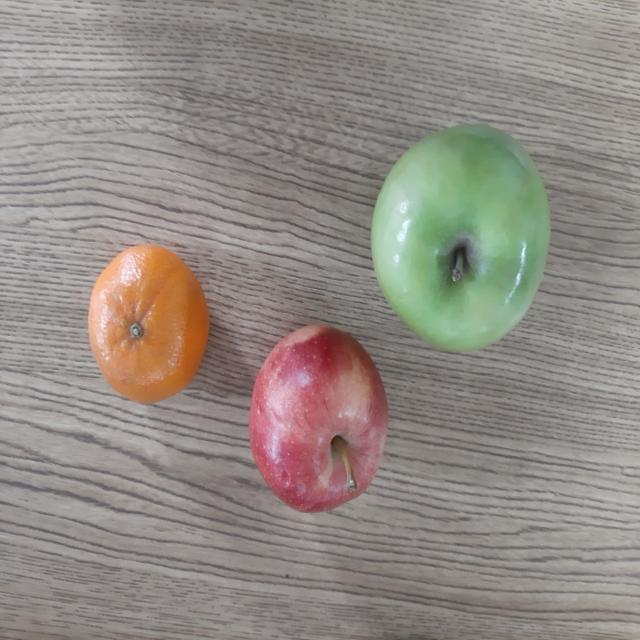Apel Gala: (248, 314, 392, 518)
Apel Granny Smith: (368, 119, 554, 359)
Jeruk Mandarin: (86, 240, 213, 404)
